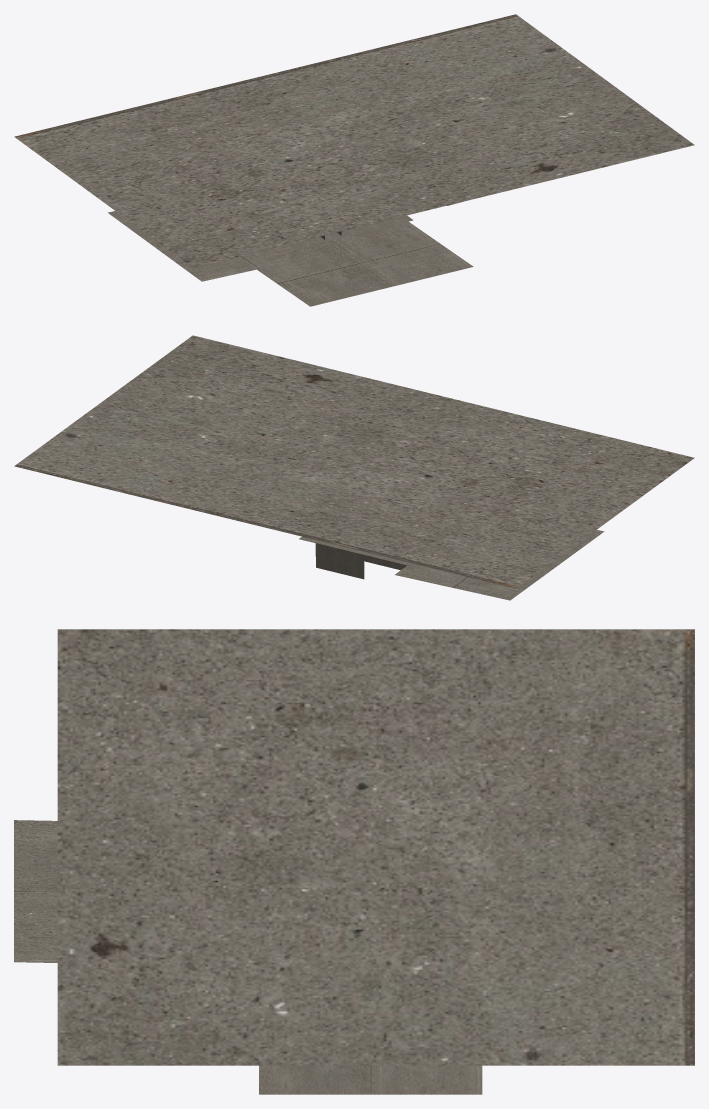
The model's file is 3drop_gallery_v41.glb.
The picture shows the model from 3 angles, top to bottom: view 1: azimuth 30°, elevation 25°; view 2: azimuth 150°, elevation 25°; view 3: azimuth 270°, elevation 25°; orthographic projection. The views are drawn at different scales.
Visible parts, largest first — view 1: frameConcreteExternalTop, sidePlateformConcrete_grndPhys, backPlateformConcrete_grndPhys, ctrlPlateformConcrete_grndPhys; view 2: frameConcreteExternalTop, backPlateformConcrete_grndPhys, frameVisitableZoneSuround, ctrlPlateformConcrete_grndPhys; view 3: frameConcreteExternalTop, frontPlateformConcrete_grndPhys, sidePlateformConcrete_grndPhys.
Part boxes in pixels (x1=…): frameConcreteExternalTop: x1=14, y1=14, x2=694, y2=267; sidePlateformConcrete_grndPhys: x1=257, y1=221, x2=473, y2=306; backPlateformConcrete_grndPhys: x1=108, y1=211, x2=294, y2=281; ctrlPlateformConcrete_grndPhys: x1=288, y1=215, x2=412, y2=249; frameConcreteExternalTop: x1=14, y1=335, x2=694, y2=588; backPlateformConcrete_grndPhys: x1=395, y1=530, x2=604, y2=600; frameVisitableZoneSuround: x1=315, y1=543, x2=406, y2=579; ctrlPlateformConcrete_grndPhys: x1=299, y1=536, x2=420, y2=567; frameConcreteExternalTop: x1=57, y1=629, x2=694, y2=1065; frontPlateformConcrete_grndPhys: x1=259, y1=1065, x2=482, y2=1094; sidePlateformConcrete_grndPhys: x1=14, y1=820, x2=57, y2=962.
Size of the model in its own units: 348 by 60.64 by 230.
2 materials, 2 textured.
